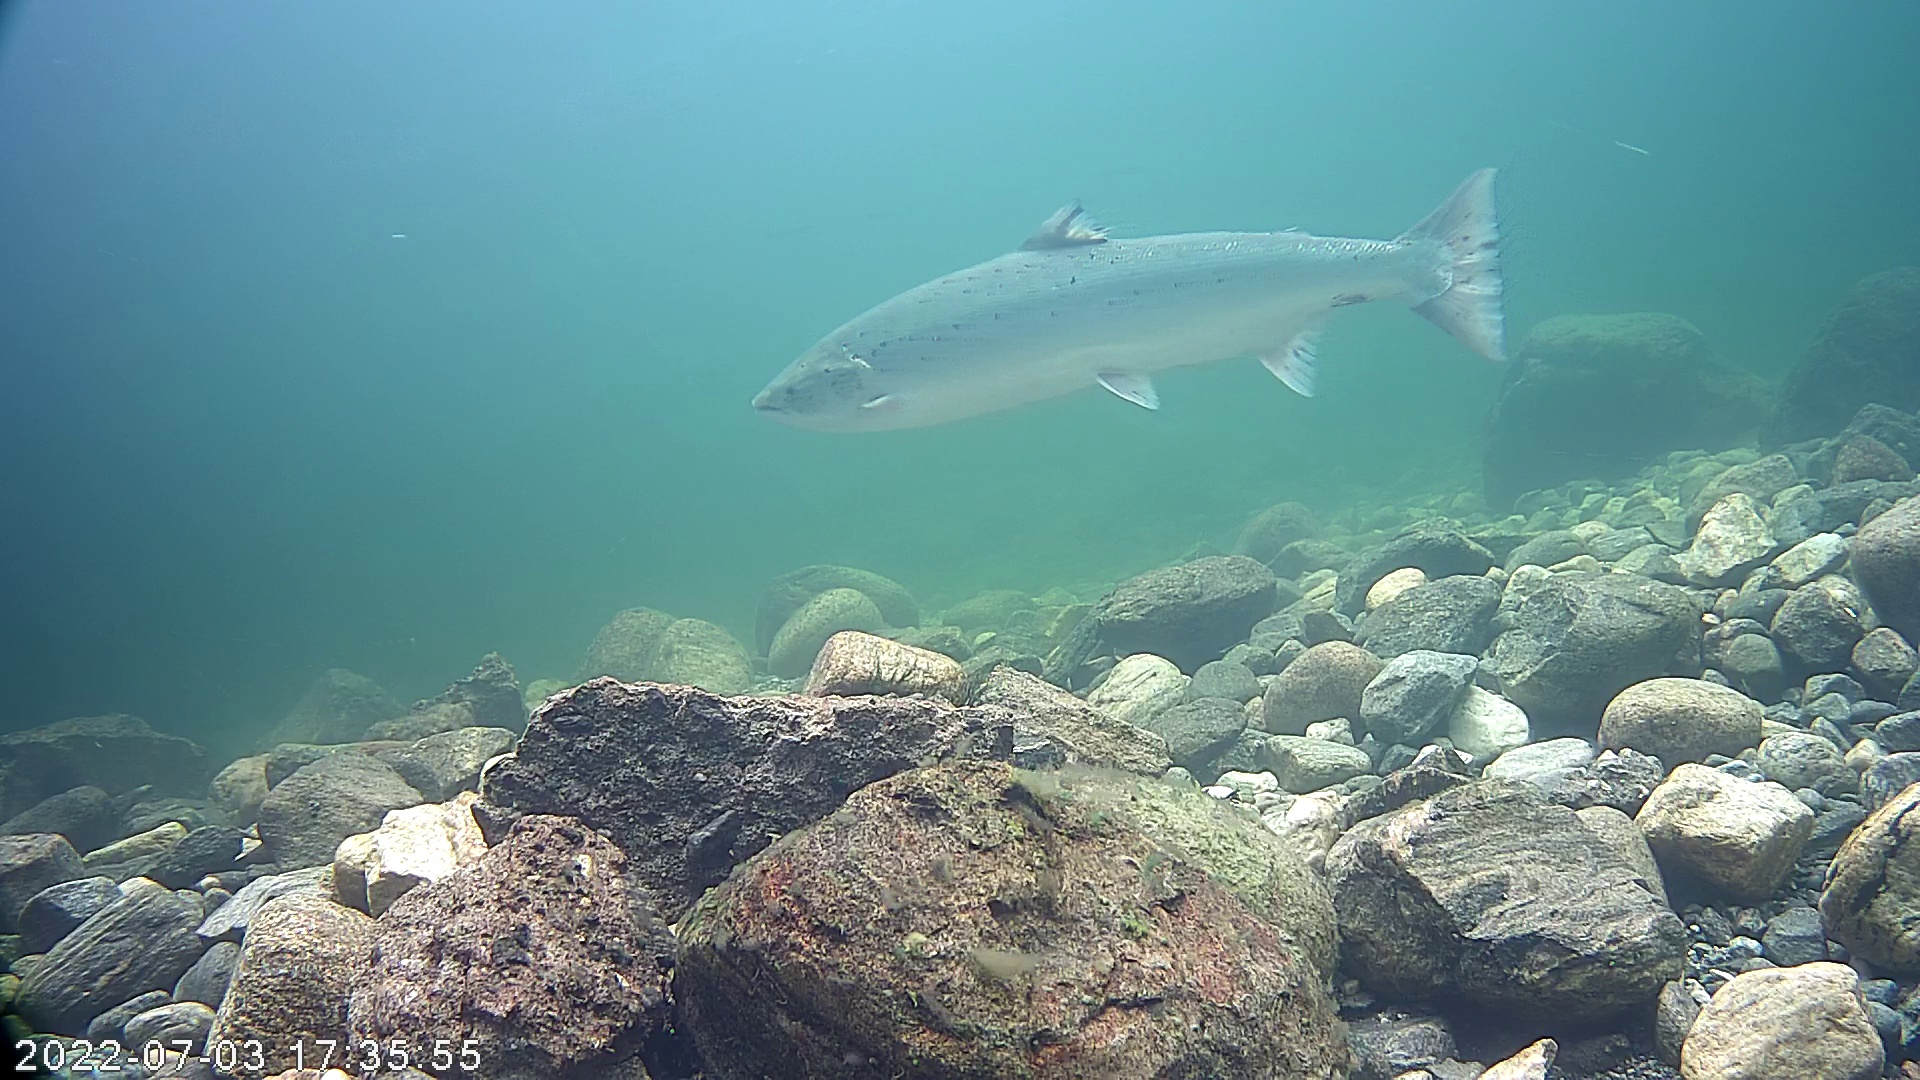salmon: (749, 161, 1511, 439)
